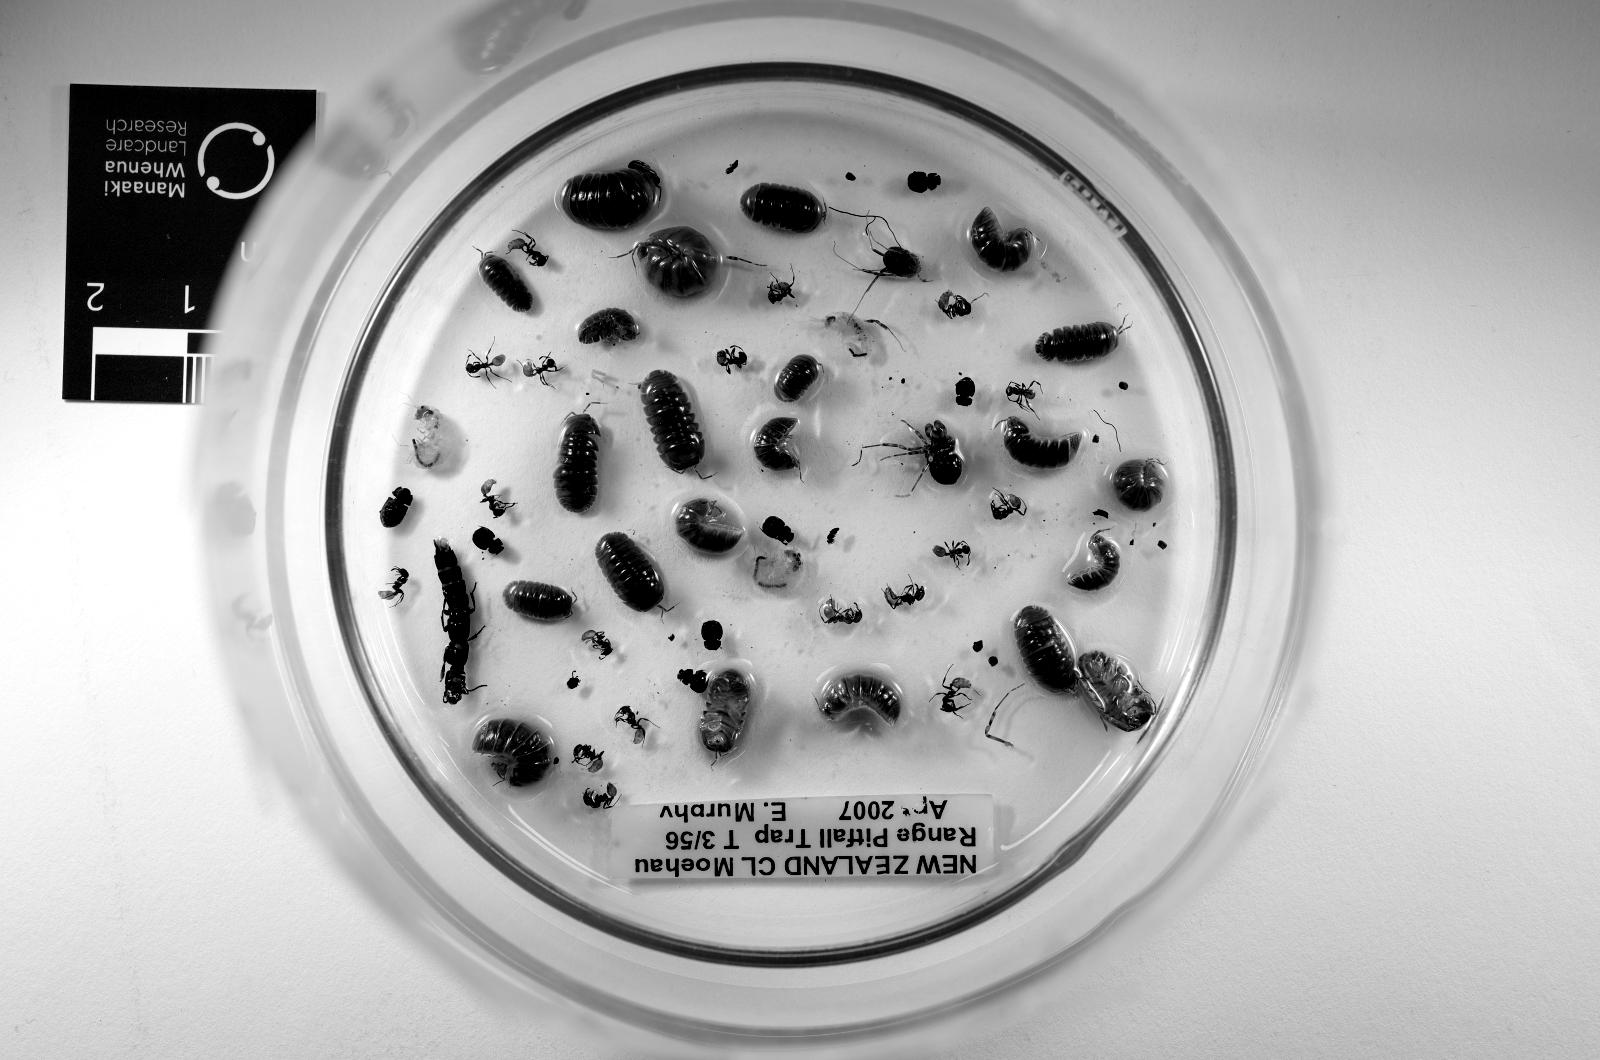amphipoda: (413, 407, 453, 468), (753, 550, 803, 593), (825, 314, 872, 357)
coleoptera: (434, 541, 475, 705), (381, 487, 413, 528), (763, 516, 793, 547), (472, 528, 503, 556), (678, 667, 710, 692), (906, 170, 940, 193), (700, 621, 721, 649), (957, 376, 974, 407)
diptera: (825, 528, 841, 543), (725, 159, 738, 174)
formicidae: (934, 674, 972, 715), (616, 705, 653, 745), (506, 233, 546, 267), (481, 478, 516, 518), (466, 351, 506, 382), (522, 354, 559, 386), (818, 600, 862, 625), (378, 568, 409, 602), (934, 541, 972, 568), (582, 783, 618, 810), (885, 584, 925, 608), (991, 491, 1025, 518), (1006, 382, 1041, 409), (715, 344, 747, 373), (572, 745, 603, 774), (938, 292, 972, 317), (769, 270, 793, 304), (582, 631, 613, 658)
isopoda: (637, 369, 704, 472), (1078, 652, 1157, 730), (634, 227, 719, 298), (556, 170, 656, 230), (594, 531, 666, 612), (1012, 606, 1078, 692), (472, 720, 553, 786), (553, 413, 600, 512), (818, 674, 900, 726), (740, 183, 825, 233), (700, 671, 750, 755), (969, 208, 1035, 270), (1003, 416, 1081, 468), (675, 500, 744, 552), (1035, 323, 1119, 363), (478, 254, 531, 310), (1069, 531, 1119, 590), (503, 581, 575, 621), (1113, 459, 1166, 512), (753, 416, 799, 472), (775, 354, 822, 403), (578, 308, 637, 344)
opiliones: (862, 419, 963, 485), (856, 243, 922, 289)
